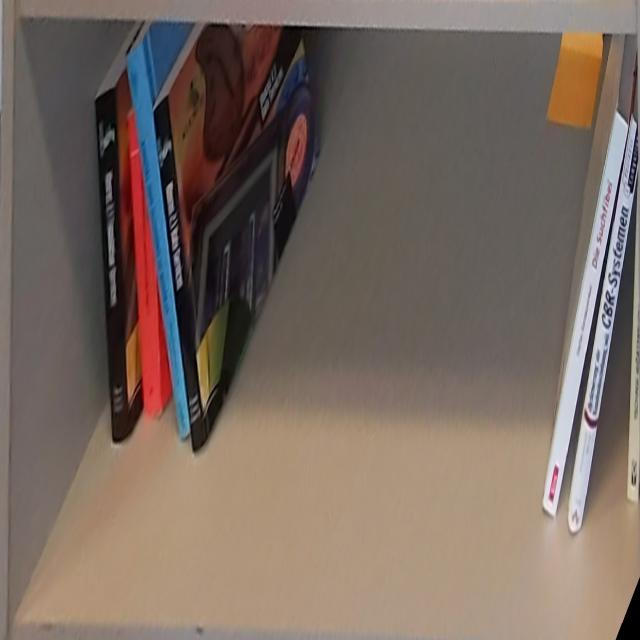Book Spine: (542, 109, 630, 519), (567, 118, 640, 535), (126, 43, 191, 440), (153, 95, 206, 453), (95, 86, 129, 442), (128, 113, 162, 415)
